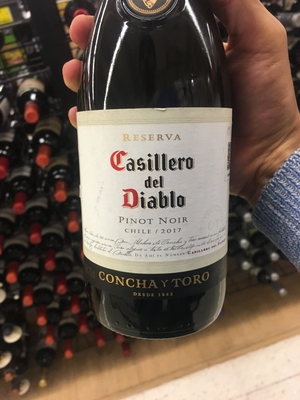casillero del diablo pinot noir: (49, 21, 257, 364)
